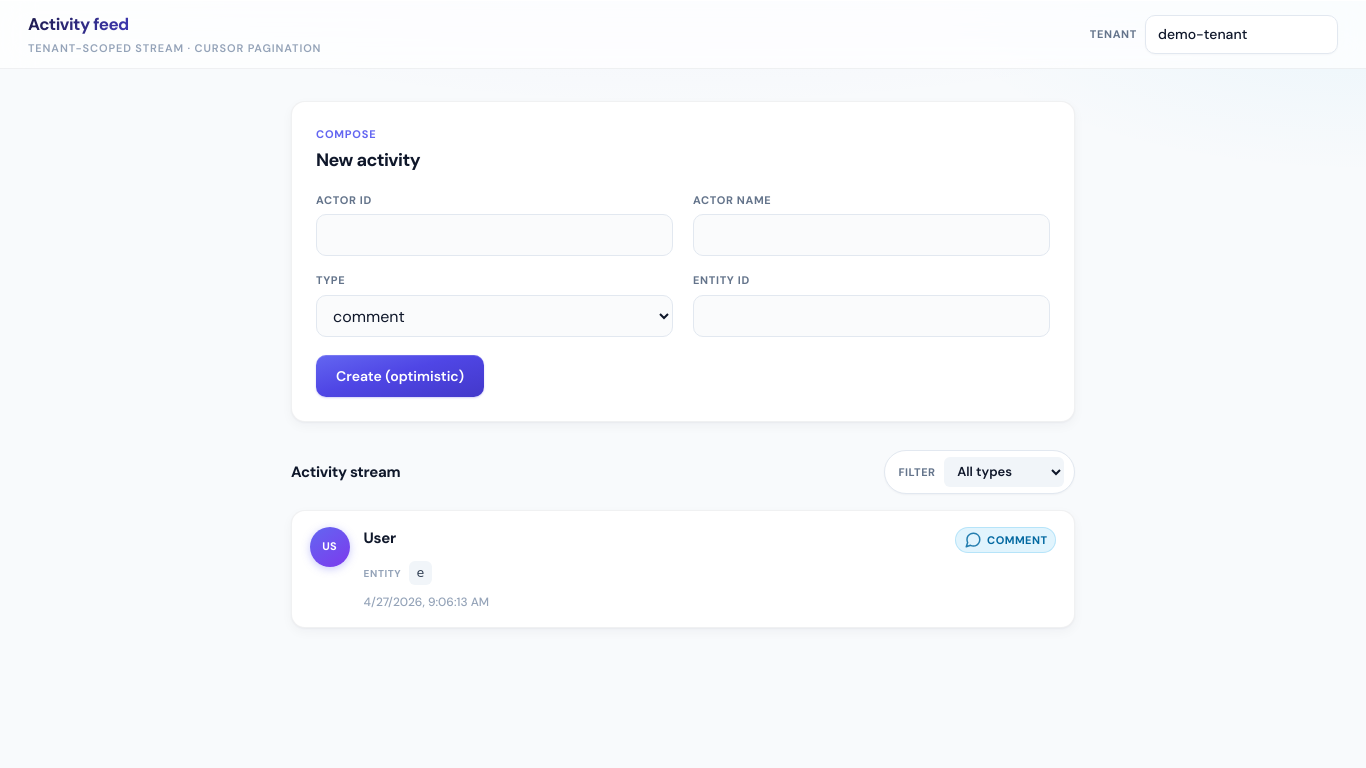
Activity feed › shows empty state when filter hides all items
This screenshot has width=1366, height=768.
Select "create" in the dropdown with test id "type-filter" at (1004, 472), box [944, 457, 1064, 487]
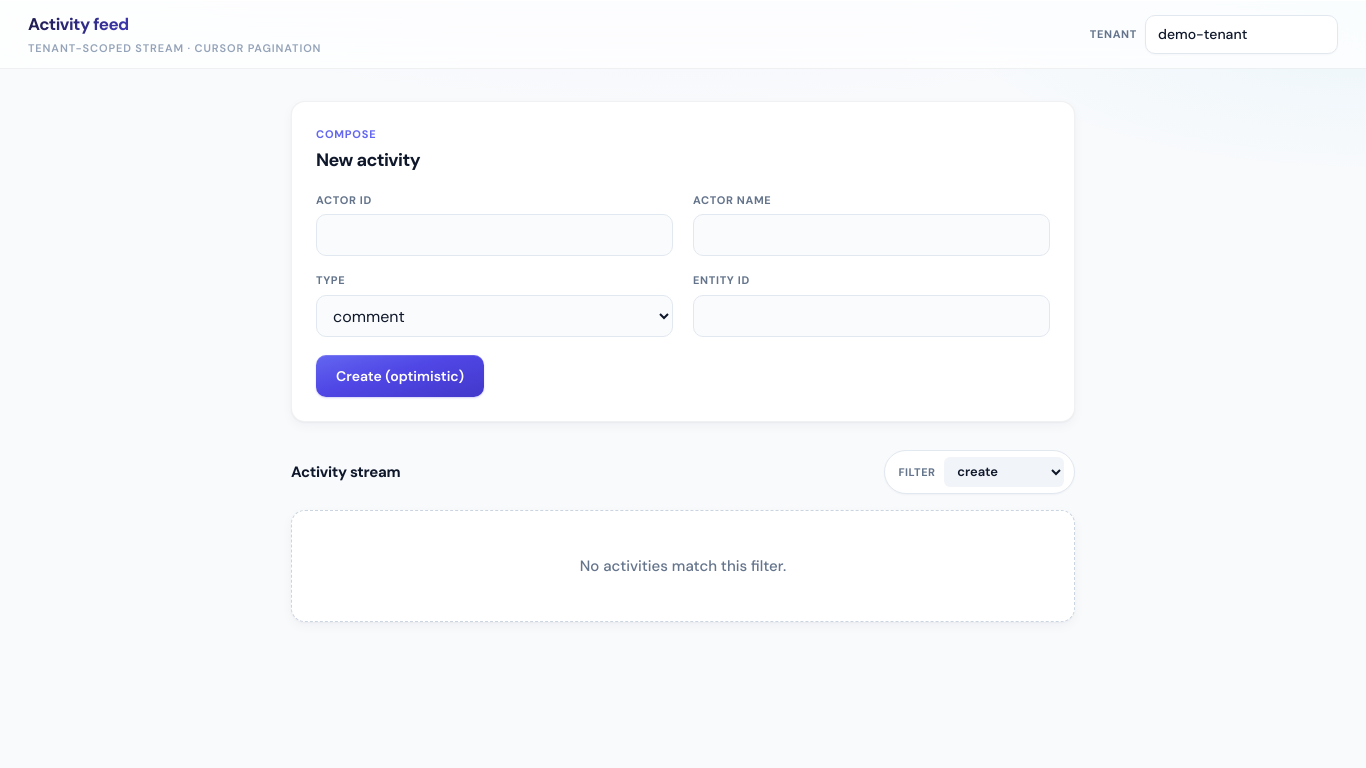
Result: the text "No activities match this filter." is shown at [291, 510, 1075, 622]
